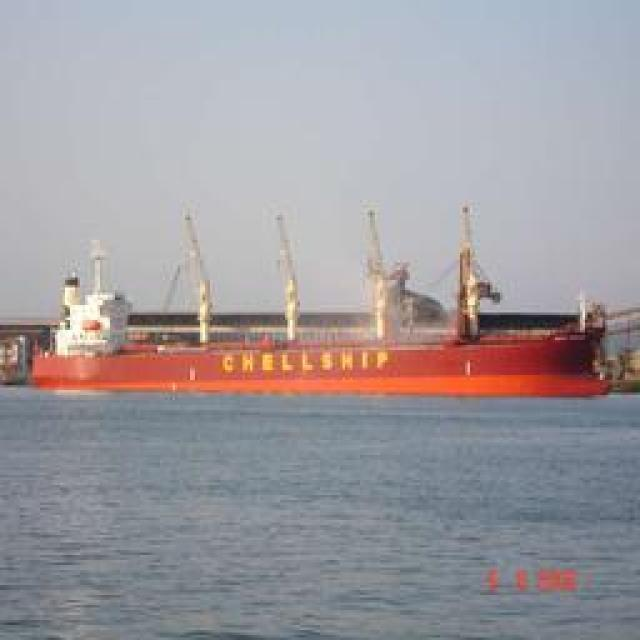CIV_Ship: (15, 280, 620, 398)
